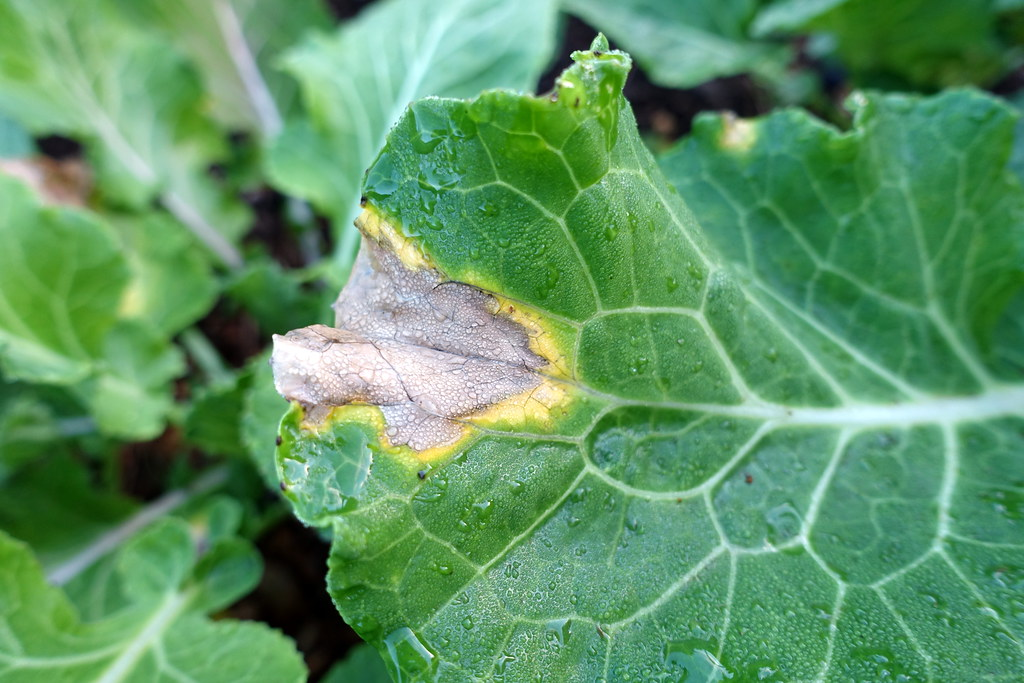Cabbage_BlackRotXantomonas: (275, 172, 1011, 619)
